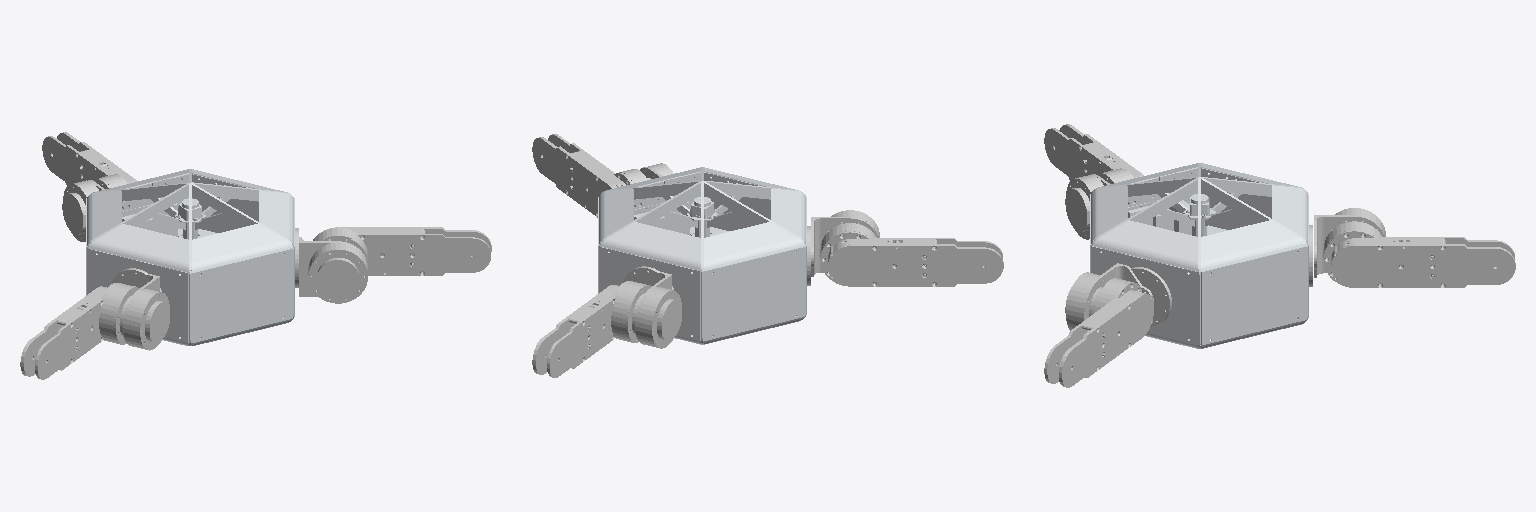
robot.urdf — tripod21:
<?xml version="1.0" encoding="utf-8"?>
<!-- This URDF was automatically created by SolidWorks to URDF Exporter! Originally created by [author] ([email redacted]) 
     Commit Version: 1.6.0-4-g7f85cfe  Build Version: 1.6.7995.38578
     For more information, please see http://wiki.ros.org/sw_urdf_exporter -->
<robot
  name="tripod21">
  <link
    name="base_link">
    <inertial>
      <origin
        xyz="-0.0021719 -0.00067551 -0.0061119"
        rpy="0 0 0" />
      <mass
        value="9.9015" />
      <inertia
        ixx="0.037705"
        ixy="-0.0001872"
        ixz="-2.4945E-07"
        iyy="0.037938"
        iyz="-3.2776E-07"
        izz="0.055788" />
    </inertial>
    <visual>
      <origin
        xyz="0 0 0"
        rpy="0 0 0" />
      <geometry>
        <mesh
          filename="package://tripod21/meshes/base_link.STL" />
      </geometry>
      <material
        name="">
        <color
          rgba="0.89804 0.91765 0.92941 1" />
      </material>
    </visual>
    <collision>
      <origin
        xyz="0 0 0"
        rpy="0 0 0" />
      <geometry>
        <mesh
          filename="package://tripod21/meshes/base_link.STL" />
      </geometry>
    </collision>
  </link>
  <link
    name="sec03">
    <inertial>
      <origin
        xyz="-0.012348 -0.0025907 4.0643E-05"
        rpy="0 0 0" />
      <mass
        value="1.3179" />
      <inertia
        ixx="0.0021718"
        ixy="-0.00012177"
        ixz="8.7446E-07"
        iyy="0.0018233"
        iyz="-5.0487E-07"
        izz="0.0015672" />
    </inertial>
    <visual>
      <origin
        xyz="0 0 0"
        rpy="0 0 0" />
      <geometry>
        <mesh
          filename="package://tripod21/meshes/sec03.STL" />
      </geometry>
      <material
        name="">
        <color
          rgba="0.84706 0.84706 0.84706 1" />
      </material>
    </visual>
    <collision>
      <origin
        xyz="0 0 0"
        rpy="0 0 0" />
      <geometry>
        <mesh
          filename="package://tripod21/meshes/sec03.STL" />
      </geometry>
    </collision>
  </link>
  <joint
    name="leg03"
    type="revolute">
    <origin
      xyz="0.18848 -0.10882 -0.0010177"
      rpy="0 0 0" />
    <parent
      link="base_link" />
    <child
      link="sec03" />
    <axis
      xyz="0.86603 -0.5 0" />
    <limit
      lower="-1.571"
      upper="1.571"
      effort="10000"
      velocity="10000" />
  </joint>
  <link
    name="hsec03">
    <inertial>
      <origin
        xyz="0.070589 0.04266 0.0012117"
        rpy="0 0 0" />
      <mass
        value="3.8354" />
      <inertia
        ixx="0.0061603"
        ixy="0.005322"
        ixz="6.0231E-06"
        iyy="0.012303"
        iyz="5.4468E-06"
        izz="0.012961" />
    </inertial>
    <visual>
      <origin
        xyz="0 0 0"
        rpy="0 0 0" />
      <geometry>
        <mesh
          filename="package://tripod21/meshes/hsec03.STL" />
      </geometry>
      <material
        name="">
        <color
          rgba="0.84706 0.84706 0.84706 1" />
      </material>
    </visual>
    <collision>
      <origin
        xyz="0 0 0"
        rpy="0 0 0" />
      <geometry>
        <mesh
          filename="package://tripod21/meshes/hsec03.STL" />
      </geometry>
    </collision>
  </link>
  <joint
    name="high03"
    type="revolute">
    <origin
      xyz="0.0234983773756974 -0.116912492688329 0"
      rpy="0 0 0" />
    <parent
      link="sec03" />
    <child
      link="hsec03" />
    <axis
      xyz="-0.500000000000064 -0.866025403784402 0" />
    <limit
      lower="-1.571"
      upper="1.571"
      effort="10000"
      velocity="10000" />
  </joint>
  <link
    name="lsec03">
    <inertial>
      <origin
        xyz="0.069146 -0.031406 3.0477E-07"
        rpy="0 0 0" />
      <mass
        value="0.2066" />
      <inertia
        ixx="0.00019169"
        ixy="0.00024381"
        ixz="-1.3142E-09"
        iyy="0.00047321"
        iyz="4.1003E-11"
        izz="0.00058055" />
    </inertial>
    <visual>
      <origin
        xyz="0 0 0"
        rpy="0 0 0" />
      <geometry>
        <mesh
          filename="package://tripod21/meshes/lsec03.STL" />
      </geometry>
      <material
        name="">
        <color
          rgba="0.79216 0.81961 0.93333 1" />
      </material>
    </visual>
    <collision>
      <origin
        xyz="0 0 0"
        rpy="0 0 0" />
      <geometry>
        <mesh
          filename="package://tripod21/meshes/lsec03.STL" />
      </geometry>
    </collision>
  </link>
  <joint
    name="low03"
    type="revolute">
    <origin
      xyz="0.28679317457298 -0.0425467741771713 0.00210000000000956"
      rpy="0 0 0" />
    <parent
      link="hsec03" />
    <child
      link="lsec03" />
    <axis
      xyz="-0.500000000000064 -0.866025403784402 0" />
    <limit
      lower="-1.571"
      upper="1.571"
      effort="10000"
      velocity="10000" />
  </joint>
  <link
    name="sec02">
    <inertial>
      <origin
        xyz="0.012348 -0.0025907 -4.0643E-05"
        rpy="0 0 0" />
      <mass
        value="1.3179" />
      <inertia
        ixx="0.0021718"
        ixy="0.00012177"
        ixz="8.7446E-07"
        iyy="0.0018233"
        iyz="5.0487E-07"
        izz="0.0015672" />
    </inertial>
    <visual>
      <origin
        xyz="0 0 0"
        rpy="0 0 0" />
      <geometry>
        <mesh
          filename="package://tripod21/meshes/sec02.STL" />
      </geometry>
      <material
        name="">
        <color
          rgba="0.84706 0.84706 0.84706 1" />
      </material>
    </visual>
    <collision>
      <origin
        xyz="0 0 0"
        rpy="0 0 0" />
      <geometry>
        <mesh
          filename="package://tripod21/meshes/sec02.STL" />
      </geometry>
    </collision>
  </link>
  <joint
    name="leg02"
    type="revolute">
    <origin
      xyz="-0.18848 -0.10882 -0.0010177"
      rpy="0 0 0" />
    <parent
      link="base_link" />
    <child
      link="sec02" />
    <axis
      xyz="-0.86603 -0.5 0" />
    <limit
      lower="-1.571"
      upper="1.571"
      effort="10000"
      velocity="10000" />
  </joint>
  <link
    name="hsec02">
    <inertial>
      <origin
        xyz="-0.070551 0.042629 -0.0012395"
        rpy="0 0 0" />
      <mass
        value="3.8312" />
      <inertia
        ixx="0.0061602"
        ixy="-0.005322"
        ixz="6.0231E-06"
        iyy="0.012303"
        iyz="-5.4468E-06"
        izz="0.012961" />
    </inertial>
    <visual>
      <origin
        xyz="0 0 0"
        rpy="0 0 0" />
      <geometry>
        <mesh
          filename="package://tripod21/meshes/hsec02.STL" />
      </geometry>
      <material
        name="">
        <color
          rgba="0.84706 0.84706 0.84706 1" />
      </material>
    </visual>
    <collision>
      <origin
        xyz="0 0 0"
        rpy="0 0 0" />
      <geometry>
        <mesh
          filename="package://tripod21/meshes/hsec02.STL" />
      </geometry>
    </collision>
  </link>
  <joint
    name="high02"
    type="revolute">
    <origin
      xyz="-0.0234983773757091 -0.116912492688327 0"
      rpy="0 0 0" />
    <parent
      link="sec02" />
    <child
      link="hsec02" />
    <axis
      xyz="-0.499999999999978 0.866025403784452 0" />
    <limit
      lower="-1.571"
      upper="1.571"
      effort="10000"
      velocity="10000" />
  </joint>
  <link
    name="lsec02">
    <inertial>
      <origin
        xyz="-0.069146 -0.031406 -3.0447E-07"
        rpy="0 0 0" />
      <mass
        value="0.2066" />
      <inertia
        ixx="0.00019169"
        ixy="-0.00024381"
        ixz="-1.3157E-09"
        iyy="0.00047321"
        iyz="-3.0532E-11"
        izz="0.00058055" />
    </inertial>
    <visual>
      <origin
        xyz="0 0 0"
        rpy="0 0 0" />
      <geometry>
        <mesh
          filename="package://tripod21/meshes/lsec02.STL" />
      </geometry>
      <material
        name="">
        <color
          rgba="0.79216 0.81961 0.93333 1" />
      </material>
    </visual>
    <collision>
      <origin
        xyz="0 0 0"
        rpy="0 0 0" />
      <geometry>
        <mesh
          filename="package://tripod21/meshes/lsec02.STL" />
      </geometry>
    </collision>
  </link>
  <joint
    name="low02"
    type="revolute">
    <origin
      xyz="-0.286793174572985 -0.042546774177143 -0.00210000000000781"
      rpy="0 0 0" />
    <parent
      link="hsec02" />
    <child
      link="lsec02" />
    <axis
      xyz="-0.499999999999977 0.866025403784452 0" />
    <limit
      lower="-1.571"
      upper="1.571"
      effort="10000"
      velocity="10000" />
  </joint>
  <link
    name="sec01">
    <inertial>
      <origin
        xyz="-0.0084174 -0.0093979 -4.0643E-05"
        rpy="0 0 0" />
      <mass
        value="1.3179" />
      <inertia
        ixx="0.001805"
        ixy="9.0045E-05"
        ixz="1.7848E-17"
        iyy="0.0021902"
        iyz="-1.0097E-06"
        izz="0.0015672" />
    </inertial>
    <visual>
      <origin
        xyz="0 0 0"
        rpy="0 0 0" />
      <geometry>
        <mesh
          filename="package://tripod21/meshes/sec01.STL" />
      </geometry>
      <material
        name="">
        <color
          rgba="0.84706 0.84706 0.84706 1" />
      </material>
    </visual>
    <collision>
      <origin
        xyz="0 0 0"
        rpy="0 0 0" />
      <geometry>
        <mesh
          filename="package://tripod21/meshes/sec01.STL" />
      </geometry>
    </collision>
  </link>
  <joint
    name="leg01"
    type="revolute">
    <origin
      xyz="0 0.21763 -0.0010177"
      rpy="0 0 0" />
    <parent
      link="base_link" />
    <child
      link="sec01" />
    <axis
      xyz="0 1 0" />
    <limit
      lower="-1.571"
      upper="1.571"
      effort="10000"
      velocity="10000" />
  </joint>
  <link
    name="hsec01">
    <inertial>
      <origin
        xyz="0.072239 0.039801 -0.0012117"
        rpy="0 0 0" />
      <mass
        value="3.8354" />
      <inertia
        ixx="0.015376"
        ixy="1.3087E-06"
        ixz="-7.7287E-06"
        iyy="0.0030869"
        iyz="-2.4927E-06"
        izz="0.012961" />
    </inertial>
    <visual>
      <origin
        xyz="0 0 0"
        rpy="0 0 0" />
      <geometry>
        <mesh
          filename="package://tripod21/meshes/hsec01.STL" />
      </geometry>
      <material
        name="">
        <color
          rgba="0.84706 0.84706 0.84706 1" />
      </material>
    </visual>
    <collision>
      <origin
        xyz="0 0 0"
        rpy="0 0 0" />
      <geometry>
        <mesh
          filename="package://tripod21/meshes/hsec01.STL" />
      </geometry>
    </collision>
  </link>
  <joint
    name="high01"
    type="revolute">
    <origin
      xyz="-0.0894999999999727 0.0788064380992637 0"
      rpy="0 0 0" />
    <parent
      link="sec01" />
    <child
      link="hsec01" />
    <axis
      xyz="1 0 0" />
    <limit
      lower="-1.571"
      upper="1.571"
      effort="10000"
      velocity="10000" />
  </joint>
  <link
    name="lsec01">
    <inertial>
      <origin
        xyz="0.007375 0.075585 -3.0488E-07"
        rpy="0 0 0" />
      <mass
        value="0.2066" />
      <inertia
        ixx="0.00061397"
        ixy="3.0298E-10"
        ixz="6.3145E-10"
        iyy="5.0925E-05"
        iyz="1.1635E-09"
        izz="0.00058055" />
    </inertial>
    <visual>
      <origin
        xyz="0 0 0"
        rpy="0 0 0" />
      <geometry>
        <mesh
          filename="package://tripod21/meshes/lsec01.STL" />
      </geometry>
      <material
        name="">
        <color
          rgba="0.89804 0.91765 0.92941 1" />
      </material>
    </visual>
    <collision>
      <origin
        xyz="0 0 0"
        rpy="0 0 0" />
      <geometry>
        <mesh
          filename="package://tripod21/meshes/lsec01.STL" />
      </geometry>
    </collision>
  </link>
  <joint
    name="low01"
    type="revolute">
    <origin
      xyz="0.106550000000021 0.269643561900756 -0.00210000000000009"
      rpy="0 0 0" />
    <parent
      link="hsec01" />
    <child
      link="lsec01" />
    <axis
      xyz="1 0 0" />
    <limit
      lower="-1.571"
      upper="1.571"
      effort="10000"
      velocity="10000" />
  </joint>

<!--transmission definition -->
<transmission name="tran01">
    <type>transmission_interface/SimpleTransmission</type>
    <joint name="leg01">
      <hardwareInterface>hardware_interface/EffortJointInterface</hardwareInterface>
    </joint>
    <actuator name="motor01">
      <hardwareInterface>hardware_interface/EffortJointInterface</hardwareInterface>
      <mechanicalReduction>1</mechanicalReduction>
    </actuator>
  </transmission>
  
  <transmission name="tran02">
    <type>transmission_interface/SimpleTransmission</type>
    <joint name="high01">
      <hardwareInterface>hardware_interface/EffortJointInterface</hardwareInterface>
    </joint>
    <actuator name="motor02">
      <hardwareInterface>hardware_interface/EffortJointInterface</hardwareInterface>
      <mechanicalReduction>1</mechanicalReduction>
    </actuator>
  </transmission>
  
  <transmission name="tran03">
    <type>transmission_interface/SimpleTransmission</type>
    <joint name="low01">
      <hardwareInterface>hardware_interface/EffortJointInterface</hardwareInterface>
    </joint>
    <actuator name="motor03">
      <hardwareInterface>hardware_interface/EffortJointInterface</hardwareInterface>
      <mechanicalReduction>1</mechanicalReduction>
    </actuator>
  </transmission>
  
  <transmission name="tran04">
    <type>transmission_interface/SimpleTransmission</type>
    <joint name="leg02">
      <hardwareInterface>hardware_interface/EffortJointInterface</hardwareInterface>
    </joint>
    <actuator name="motor04">
      <hardwareInterface>hardware_interface/EffortJointInterface</hardwareInterface>
      <mechanicalReduction>1</mechanicalReduction>
    </actuator>
  </transmission>
  
  <transmission name="tran05">
    <type>transmission_interface/SimpleTransmission</type>
    <joint name="high02">
      <hardwareInterface>hardware_interface/EffortJointInterface</hardwareInterface>
    </joint>
    <actuator name="motor05">
      <hardwareInterface>hardware_interface/EffortJointInterface</hardwareInterface>
      <mechanicalReduction>1</mechanicalReduction>
    </actuator>
  </transmission>
  
  <transmission name="tran06">
    <type>transmission_interface/SimpleTransmission</type>
    <joint name="low02">
      <hardwareInterface>hardware_interface/EffortJointInterface</hardwareInterface>
    </joint>
    <actuator name="motor06">
      <hardwareInterface>hardware_interface/EffortJointInterface</hardwareInterface>
      <mechanicalReduction>1</mechanicalReduction>
    </actuator>
  </transmission>
  
  <transmission name="tran07">
    <type>transmission_interface/SimpleTransmission</type>
    <joint name="leg03">
      <hardwareInterface>hardware_interface/EffortJointInterface</hardwareInterface>
    </joint>
    <actuator name="motor07">
      <hardwareInterface>hardware_interface/EffortJointInterface</hardwareInterface>
      <mechanicalReduction>1</mechanicalReduction>
    </actuator>
  </transmission>
  
  <transmission name="tran08">
    <type>transmission_interface/SimpleTransmission</type>
    <joint name="high03">
      <hardwareInterface>hardware_interface/EffortJointInterface</hardwareInterface>
    </joint>
    <actuator name="motor08">
      <hardwareInterface>hardware_interface/EffortJointInterface</hardwareInterface>
      <mechanicalReduction>1</mechanicalReduction>
    </actuator>
  </transmission>
  
  <transmission name="tran09">
    <type>transmission_interface/SimpleTransmission</type>
    <joint name="low03">
      <hardwareInterface>hardware_interface/EffortJointInterface</hardwareInterface>
    </joint>
    <actuator name="motor09">
      <hardwareInterface>hardware_interface/EffortJointInterface</hardwareInterface>
      <mechanicalReduction>1</mechanicalReduction>
    </actuator>
  </transmission>
  
      <!--cointrol pluging -->
  <gazebo>
  <plugin name="gazebo_ros_control" filename="libgazebo_ros_control.so">

  </plugin>
</gazebo>

<!--
<gazebo reference="sec01">
   <turnGravityOff>true</turnGravityOff>
</gazebo>

<gazebo reference="sec02">
   <turnGravityOff>true</turnGravityOff>
</gazebo>

<gazebo reference="sec03">
   <turnGravityOff>true</turnGravityOff>
</gazebo>

<gazebo reference="hsec01">
   <turnGravityOff>true</turnGravityOff>
</gazebo>

<gazebo reference="hsec02">
   <turnGravityOff>true</turnGravityOff>
</gazebo>

<gazebo reference="hsec03">
   <turnGravityOff>true</turnGravityOff>
</gazebo>

<gazebo reference="lsec01">
   <turnGravityOff>true</turnGravityOff>
</gazebo>

<gazebo reference="lsec02">
   <turnGravityOff>true</turnGravityOff>
</gazebo>

<gazebo reference="lsec03">
   <turnGravityOff>true</turnGravityOff>
</gazebo>

-->
</robot>

--- Render facts (derived) ---
3 views of the same robot in one strip: view 1: azimuth 30°, elevation 25°; view 2: azimuth 150°, elevation 25°; view 3: azimuth 270°, elevation 25° (orthographic).
Model tripod21 with 10 links and 9 joints (9 revolute), rooted at base_link, posed every joint at zero.
Visible links, largest first — view 1: base_link, hsec03, hsec02, hsec01, sec03, sec02; view 2: base_link, hsec02, hsec01, hsec03, sec02, sec01; view 3: base_link, hsec01, hsec03, hsec02, sec03, sec01.
Boxes of the visible links, x1,y1,x2,y2 form: base_link: [86, 169, 294, 345]; hsec03: [308, 227, 491, 303]; hsec02: [20, 283, 169, 379]; hsec01: [42, 132, 137, 241]; sec03: [295, 228, 367, 296]; sec02: [112, 268, 161, 345]; base_link: [598, 167, 806, 344]; hsec02: [820, 210, 1003, 286]; hsec01: [532, 281, 681, 377]; hsec03: [532, 134, 673, 217]; sec02: [807, 217, 878, 285]; sec01: [623, 266, 673, 344]; base_link: [1090, 163, 1308, 348]; hsec01: [1323, 208, 1515, 287]; hsec03: [1044, 272, 1153, 387]; hsec02: [1044, 124, 1143, 239]; sec03: [1081, 263, 1171, 326]; sec01: [1309, 215, 1384, 286].
Size in the robot's own frame: 1.09 by 0.9014 by 0.333 metres.
7 mesh visuals loaded from 10 distinct referenced files (7 binary STL); not drawn: 3 (reference not matched to a file when rendering).
